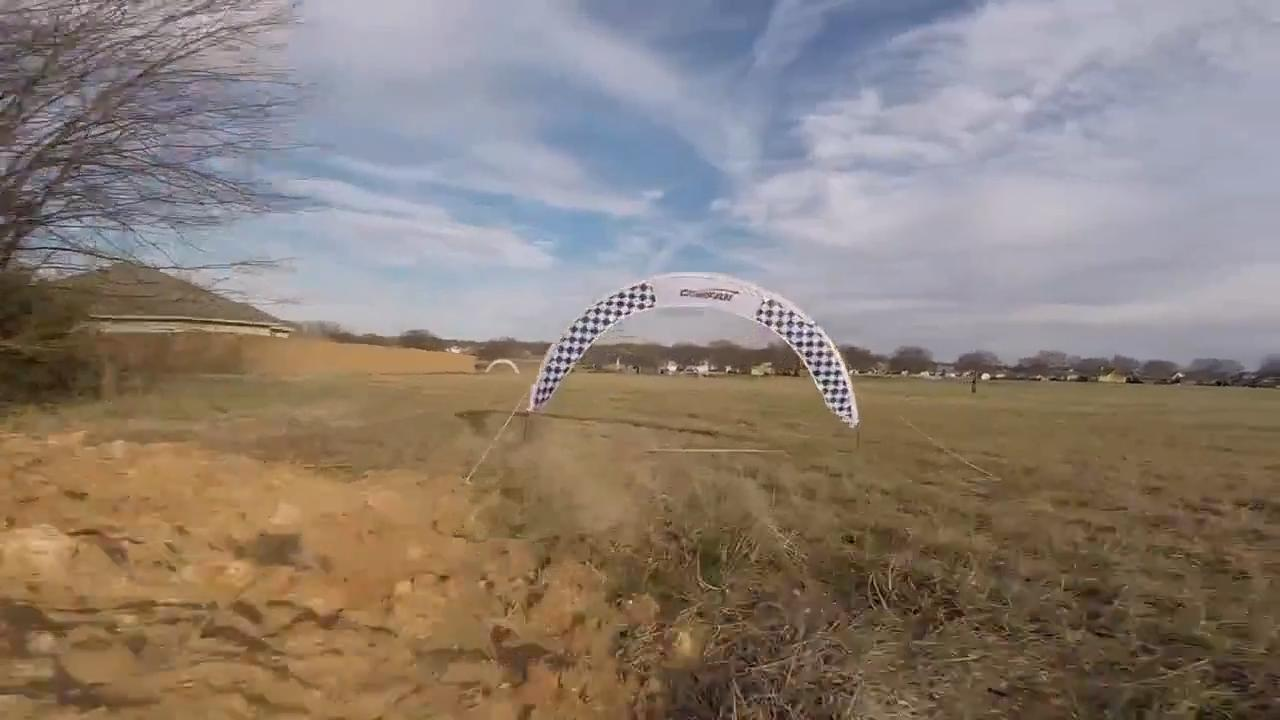gate: (520, 272, 859, 427)
